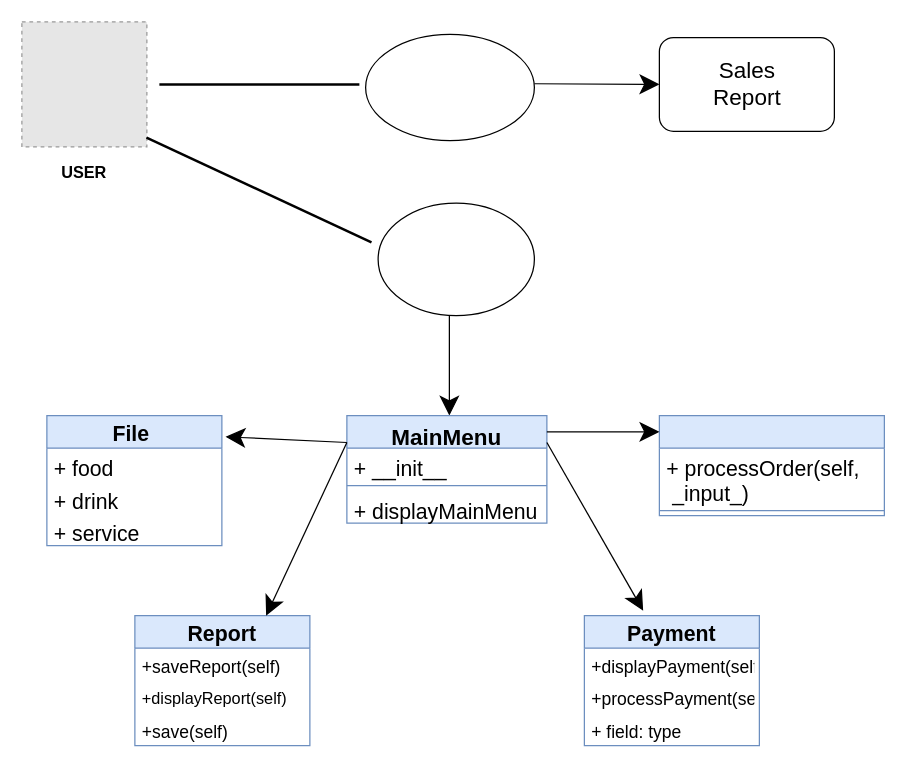
This 906x771 diagram has some shape labels left out. Grey dashed boxes stand in for pictures. The box of each missing label's shape, as (x1, y1, x2, y2) in pixels:
Biller: (377, 202, 534, 316)
Order Menu: (658, 414, 884, 516)
Seller: (364, 33, 534, 141)
